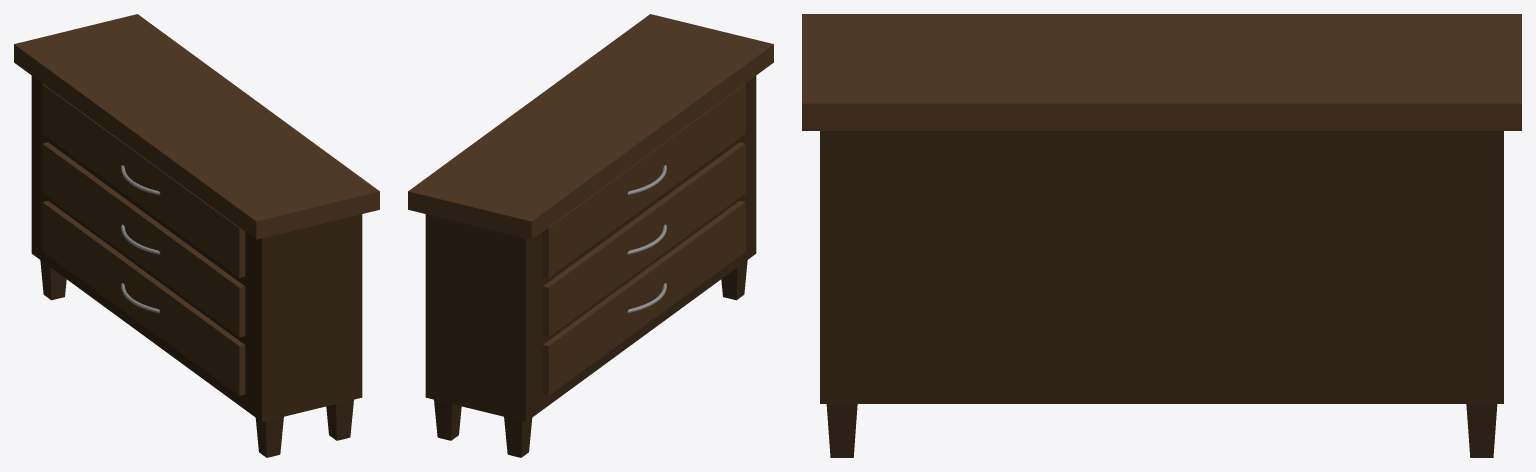
Rendered from dresser.fbx.
3 renders of one model, left to right at view 1: azimuth 30°, elevation 25°; view 2: azimuth 150°, elevation 25°; view 3: azimuth 270°, elevation 25°, orthographic. The views are drawn at different scales.
Parts seen in each view (by area): view 1: Cube, Cube.001, Cube.004, Cube.006, Cube.003, Cube.002; view 2: Cube, Cube.001, Cube.004, Cube.006, Cube.003, Cube.002; view 3: Cube.001, Cube, Cube.002.
Part boxes in pixels (x1,y1,x2,y2): Cube: [14, 14, 379, 239]; Cube.001: [31, 76, 362, 421]; Cube.004: [42, 142, 245, 337]; Cube.006: [42, 201, 245, 395]; Cube.003: [42, 84, 245, 277]; Cube.002: [40, 260, 353, 457]; Cube: [408, 14, 773, 239]; Cube.001: [425, 76, 756, 421]; Cube.004: [542, 142, 745, 337]; Cube.006: [542, 201, 745, 395]; Cube.003: [542, 84, 745, 277]; Cube.002: [434, 260, 747, 457]; Cube.001: [820, 131, 1503, 403]; Cube: [802, 14, 1521, 130]; Cube.002: [826, 404, 1497, 457].
Size of the model in its own units: 158 by 291 by 516.
